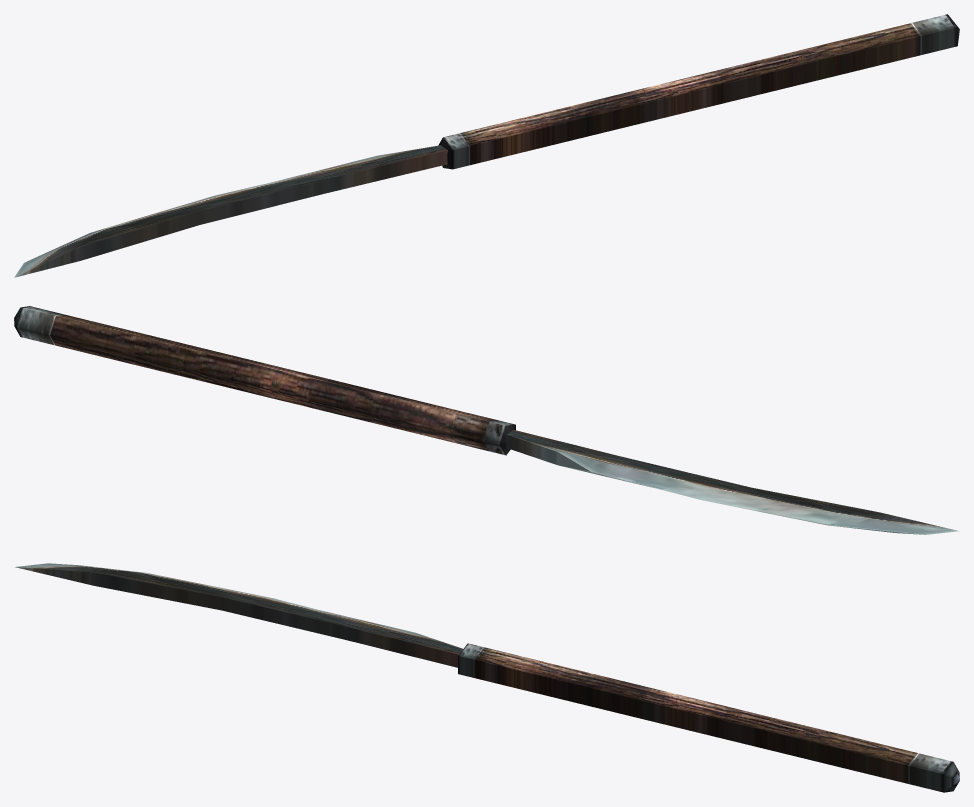
The model's file is ITMW_025_2H_STAFF_02.glb.
3 renders of one model, top to bottom at view 1: azimuth 30°, elevation 25°; view 2: azimuth 150°, elevation 25°; view 3: azimuth 330°, elevation 25°, orthographic. The views are drawn at different scales.
Parts seen in each view (by area): view 1: ITMW_025_2H_STAFF_02; view 2: ITMW_025_2H_STAFF_02; view 3: ITMW_025_2H_STAFF_02.
Boxes of the visible parts, x1=… form: ITMW_025_2H_STAFF_02: x1=14, y1=14, x2=959, y2=277; ITMW_025_2H_STAFF_02: x1=14, y1=306, x2=959, y2=534; ITMW_025_2H_STAFF_02: x1=15, y1=563, x2=959, y2=792.
Size of the model in its own units: 1.45 by 0.0441 by 0.0888.
Materials: 2 (2 with a texture image).
